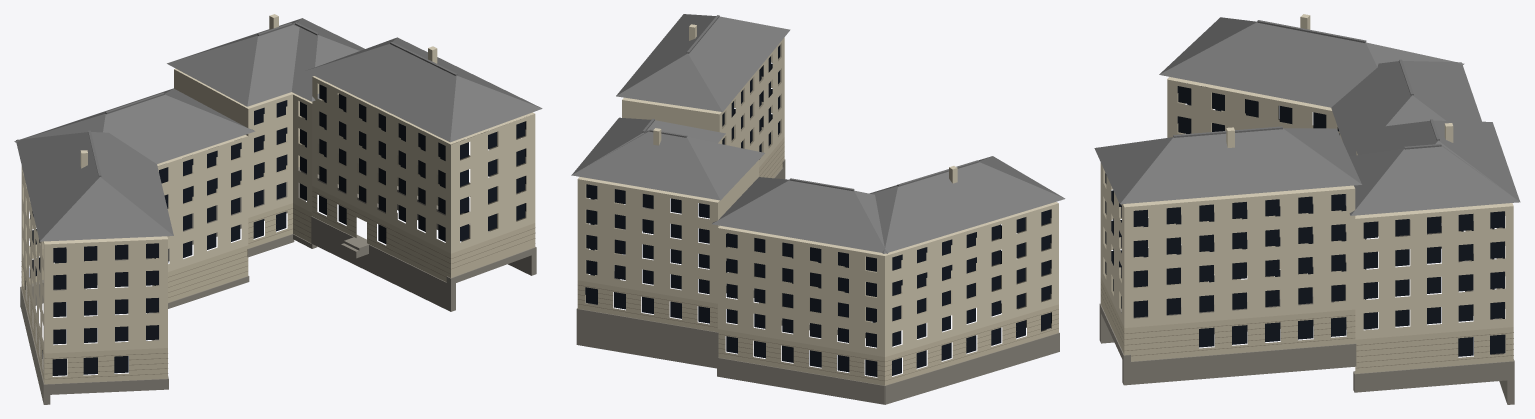
Rendered from suvorova27.lod.glb.
The picture shows the model from 3 angles, left to right: view 1: azimuth 30°, elevation 25°; view 2: azimuth 150°, elevation 25°; view 3: azimuth 270°, elevation 25°; orthographic projection. The views are drawn at different scales.
Visible parts, largest first — view 1: suvorova27_wall, suvorova27_roof, suvorova27_wall2, suvorova27_glass, suvorova27_stone, suvorova27_wall3; view 2: suvorova27_wall, suvorova27_roof, suvorova27_glass, suvorova27_stone, suvorova27_wall2, suvorova27_wall3; view 3: suvorova27_roof, suvorova27_wall, suvorova27_glass, suvorova27_wall2, suvorova27_stone, suvorova27_wall3.
Boxes of the visible parts, x1,y1,x2,y2 form: suvorova27_wall: (21,14,535,353); suvorova27_roof: (14,18,542,241); suvorova27_wall2: (21,136,535,384); suvorova27_glass: (25,84,526,375); suvorova27_stone: (20,167,536,404); suvorova27_wall3: (21,191,535,379); suvorova27_wall: (577,24,1058,356); suvorova27_roof: (571,14,1065,253); suvorova27_glass: (585,45,1051,376); suvorova27_stone: (576,157,1059,404); suvorova27_wall2: (577,128,1058,385); suvorova27_wall3: (578,142,1058,380); suvorova27_roof: (1094,17,1520,215); suvorova27_wall: (1100,14,1513,339); suvorova27_glass: (1105,86,1505,356); suvorova27_wall2: (1100,212,1513,373); suvorova27_stone: (1099,204,1514,404); suvorova27_wall3: (1101,234,1513,368).
Size of the model in its own units: 54.47 by 29.38 by 39.64.
